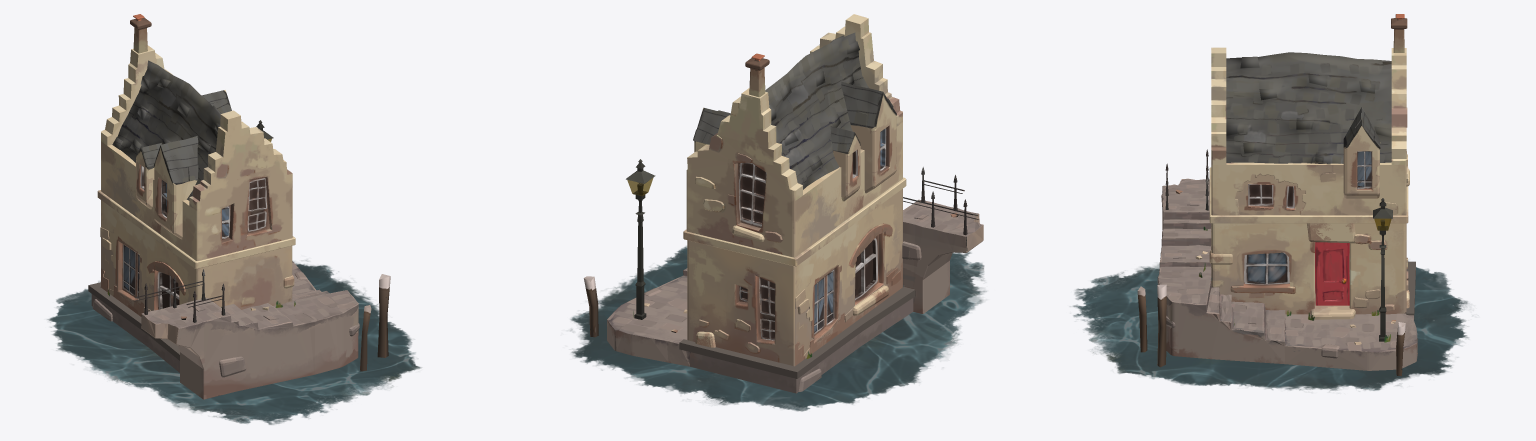
The picture shows the model from 3 angles, left to right: view 1: azimuth 30°, elevation 25°; view 2: azimuth 150°, elevation 25°; view 3: azimuth 270°, elevation 25°; orthographic projection. The views are drawn at different scales.
Parts seen in each view (by area): view 1: soloport_props_high_poly, soloport_house_highpoly, soloport_alpha; view 2: soloport_house_highpoly, soloport_props_high_poly, soloport_alpha; view 3: soloport_props_high_poly, soloport_house_highpoly, soloport_alpha.
Part boxes in pixels (x1=…): soloport_props_high_poly: x1=88, y1=14, x2=390, y2=399; soloport_house_highpoly: x1=97, y1=45, x2=295, y2=316; soloport_alpha: x1=47, y1=138, x2=421, y2=424; soloport_house_highpoly: x1=683, y1=14, x2=906, y2=366; soloport_props_high_poly: x1=583, y1=32, x2=983, y2=393; soloport_alpha: x1=570, y1=177, x2=986, y2=411; soloport_props_high_poly: x1=1137, y1=14, x2=1417, y2=375; soloport_house_highpoly: x1=1209, y1=47, x2=1408, y2=319; soloport_alpha: x1=1073, y1=218, x2=1468, y2=390.
Bounding box in the file's own units: 1067 × 722 × 1067.
3 materials, 3 textured.
